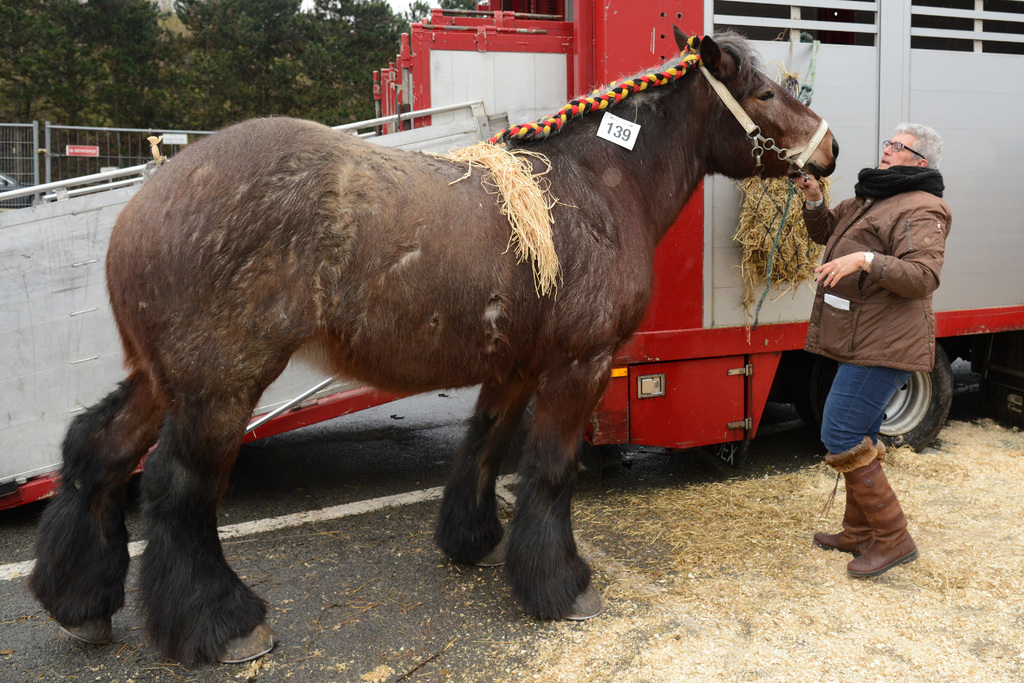horse: (23, 24, 840, 663)
